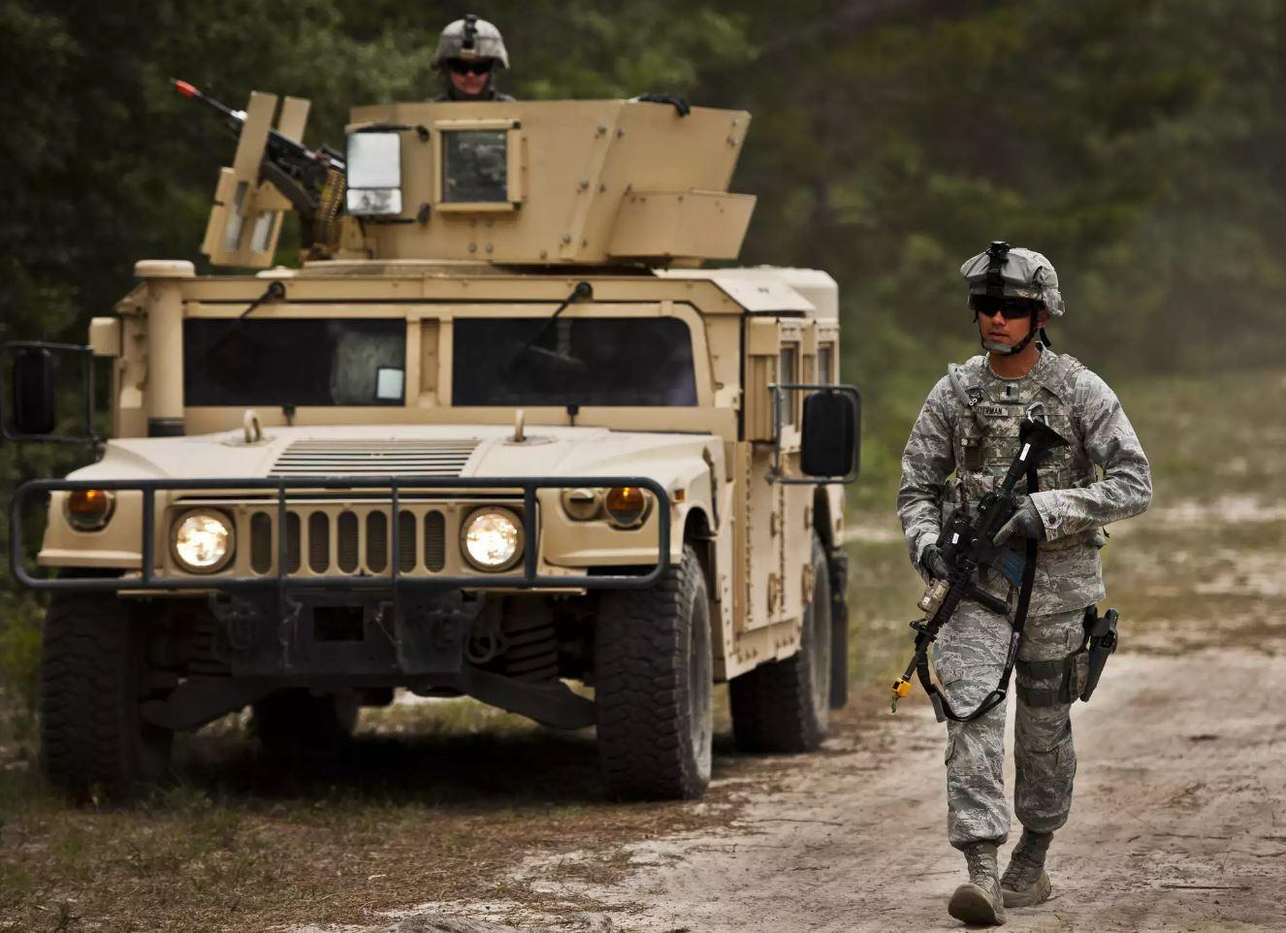armored_car: (0, 75, 865, 803)
